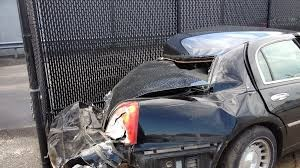Broken-glass: (104, 104, 136, 142)
Dent: (202, 56, 244, 113)
Smashed: (44, 58, 170, 168)
